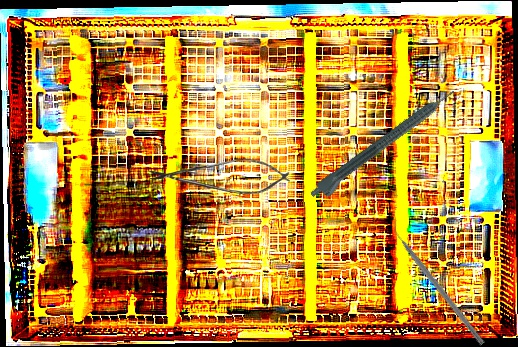Chopper: (387, 218, 492, 346)
Handpiece: (307, 86, 463, 206)
Micro Scissor: (146, 159, 293, 194)
